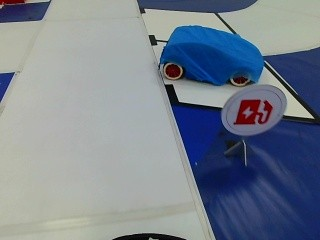battery: (220, 82, 284, 135)
car: (155, 21, 267, 85)
